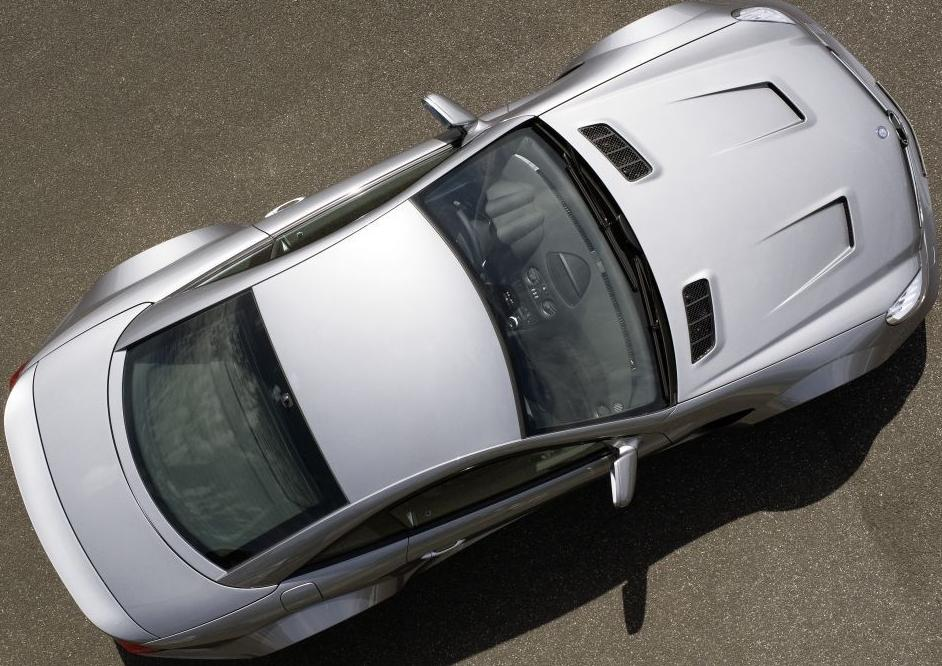front_view: (749, 4, 929, 360)
side_glass: (304, 395, 636, 567)
